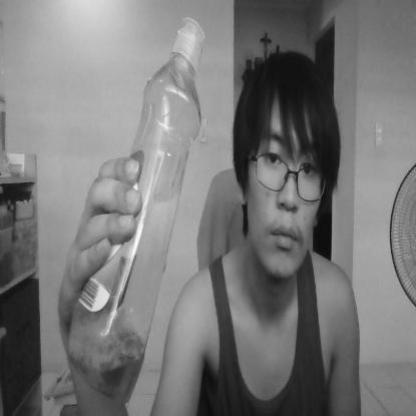Plastic Bottle: (73, 19, 204, 409)
